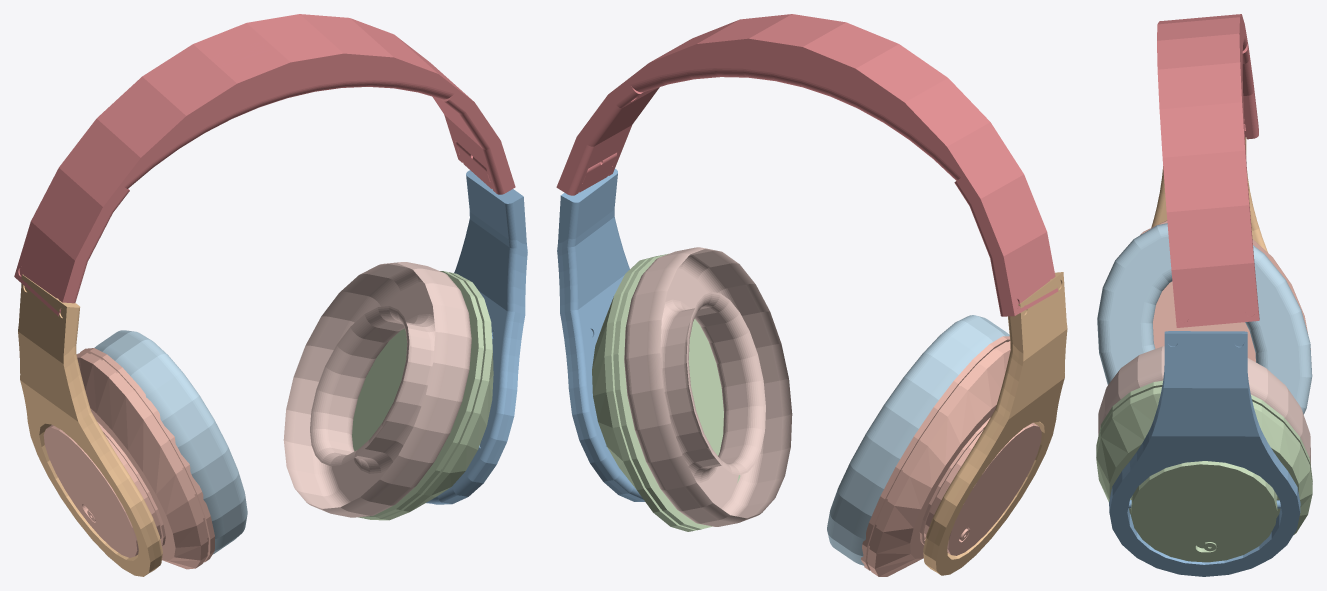
Rendered from 10970_assembly.glb.
The picture shows the model from 3 angles, left to right: view 1: azimuth 30°, elevation 25°; view 2: azimuth 150°, elevation 25°; view 3: azimuth 270°, elevation 25°; orthographic projection. The views are drawn at different scales.
Parts seen in each view (by area): view 1: part_00, part_03, part_01, part_02, part_06, part_04, part_05; view 2: part_00, part_03, part_01, part_02, part_06, part_05, part_04; view 3: part_00, part_06, part_04, part_05, part_03, part_01, part_02.
Part boxes in pixels (box(x1,y1,x2,y2)): part_00: box(14, 14, 515, 316); part_03: box(283, 262, 471, 517); part_01: box(43, 348, 214, 569); part_02: box(18, 274, 162, 576); part_06: box(426, 170, 527, 504); part_04: box(352, 271, 493, 520); part_05: box(94, 330, 247, 554); part_00: box(556, 14, 1058, 316); part_03: box(624, 247, 792, 526); part_01: box(861, 336, 1041, 576); part_02: box(923, 272, 1067, 575); part_06: box(557, 168, 644, 501); part_05: box(827, 315, 1009, 565); part_04: box(592, 253, 740, 531); part_00: box(1157, 14, 1259, 327); part_06: box(1109, 331, 1300, 576); part_04: box(1096, 380, 1312, 562); part_05: box(1097, 223, 1312, 414); part_03: box(1098, 346, 1310, 464); part_01: box(1140, 220, 1310, 362); part_02: box(1151, 137, 1267, 252).
Bounding box in the file's own units: 1.02 × 1.07 × 0.4371.
